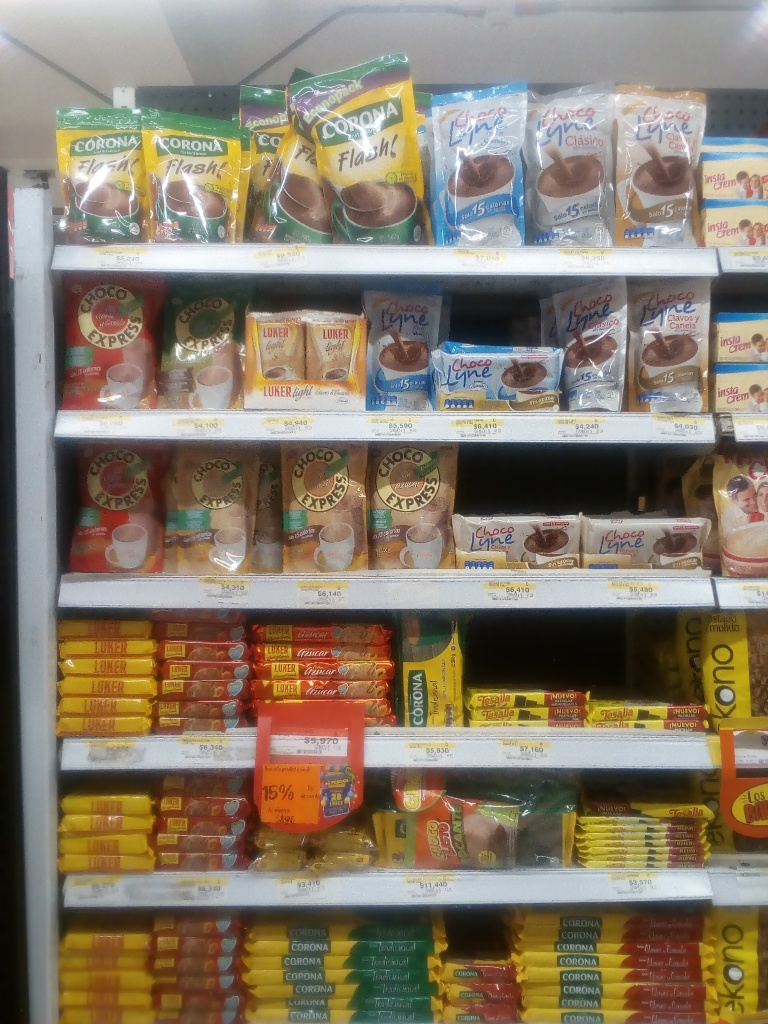COL0170102DYP10000: (405, 789, 537, 872)
